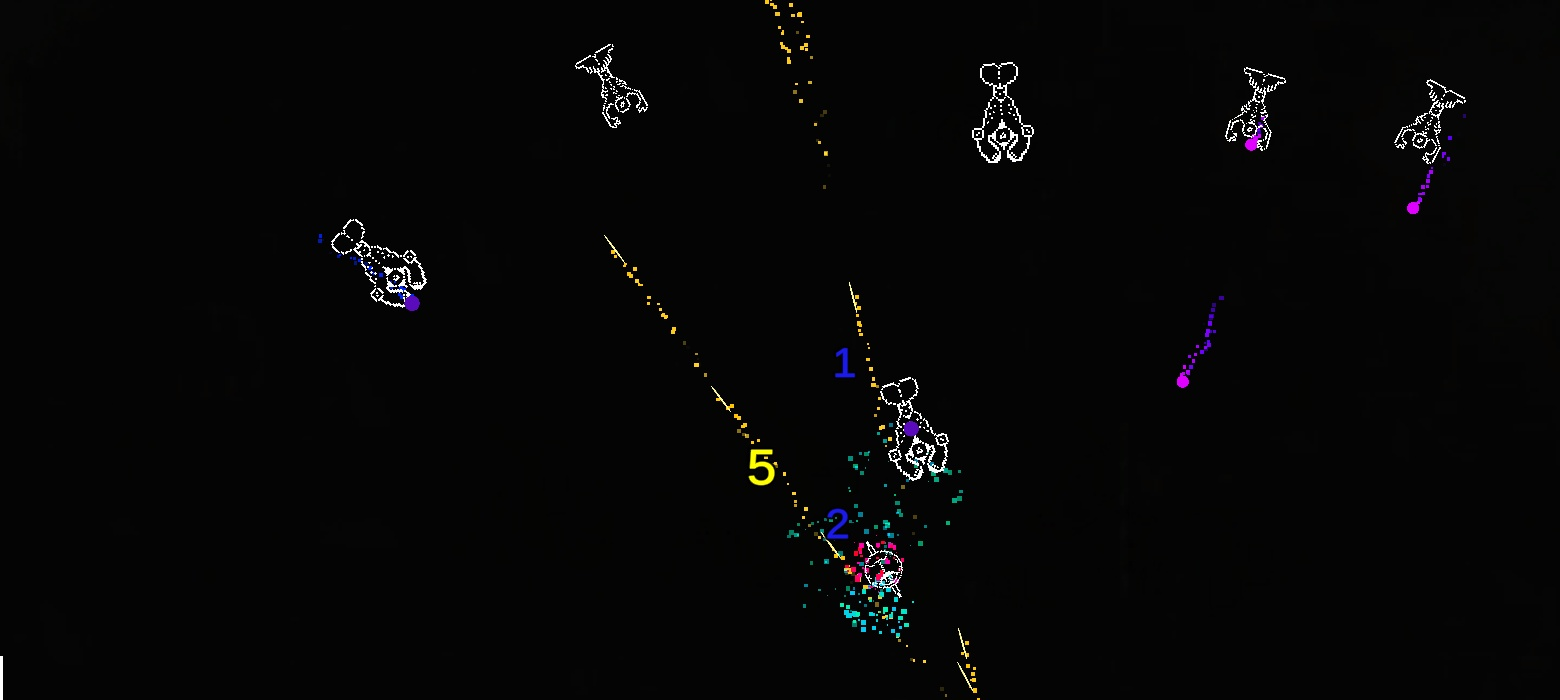enemy: (331, 219, 427, 308), (880, 377, 949, 481), (575, 43, 649, 129), (972, 62, 1034, 163), (1394, 78, 1466, 164), (1225, 67, 1286, 151), (865, 541, 902, 598)
